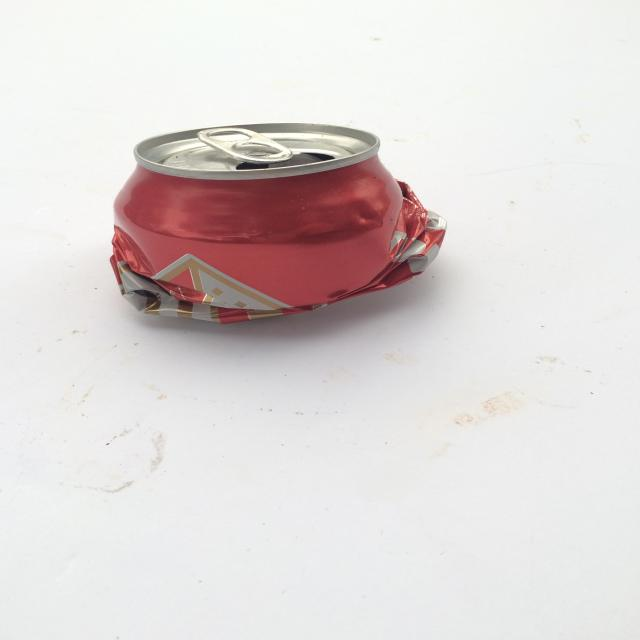metal: (109, 121, 448, 325)
